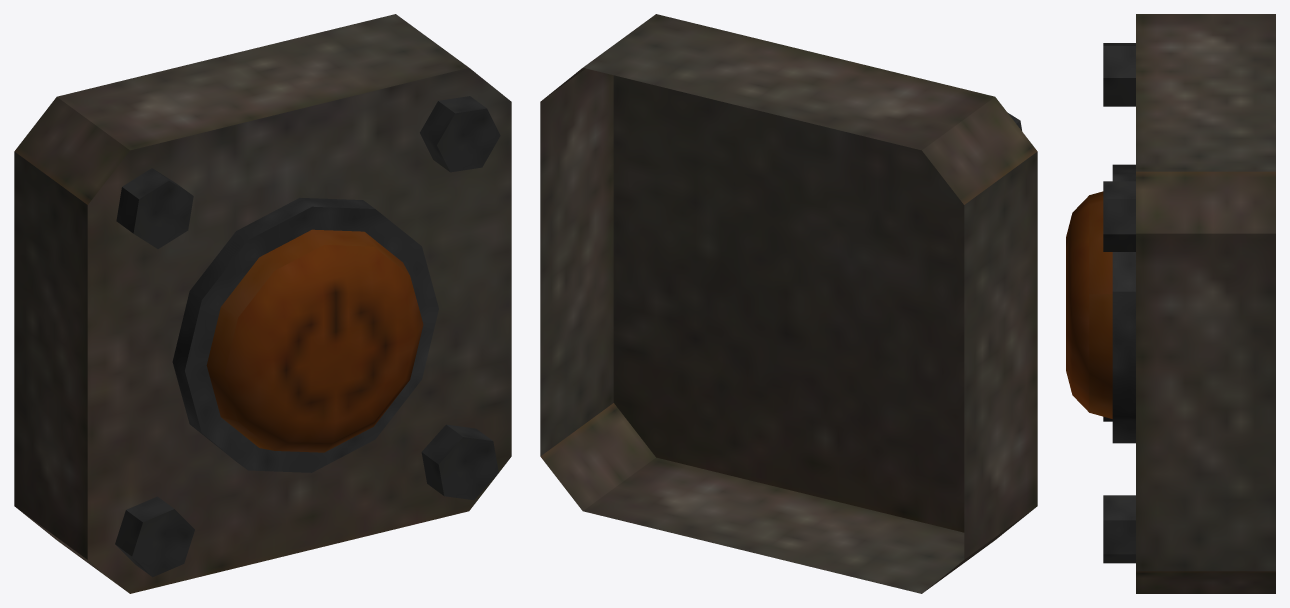
File: button_etx_red_1.obj
The picture shows the model from 3 angles, left to right: view 1: azimuth 30°, elevation 25°; view 2: azimuth 150°, elevation 25°; view 3: azimuth 270°, elevation 25°; orthographic projection. The views are drawn at different scales.
Parts seen in each view (by area): view 1: button_etx_red_1, button_etx_red_1_child; view 2: button_etx_red_1; view 3: button_etx_red_1, button_etx_red_1_child.
Boxes of the visible parts, bbox=[...] form: button_etx_red_1: bbox=[14, 14, 511, 593]; button_etx_red_1_child: bbox=[206, 229, 423, 452]; button_etx_red_1: bbox=[540, 14, 1037, 593]; button_etx_red_1: bbox=[1103, 14, 1275, 593]; button_etx_red_1_child: bbox=[1066, 191, 1112, 418].
Bounding box in the file's own units: 0.18 × 0.18 × 0.081.
